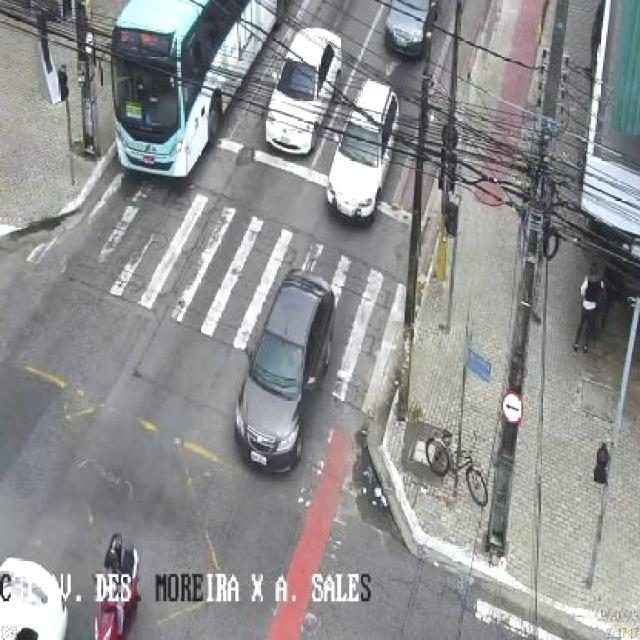Bus: (105, 0, 296, 182)
Car: (232, 267, 336, 476), (328, 80, 400, 223), (265, 27, 342, 158), (0, 556, 70, 640), (382, 0, 442, 58)
Cycle: (425, 428, 490, 508), (89, 548, 139, 639)
